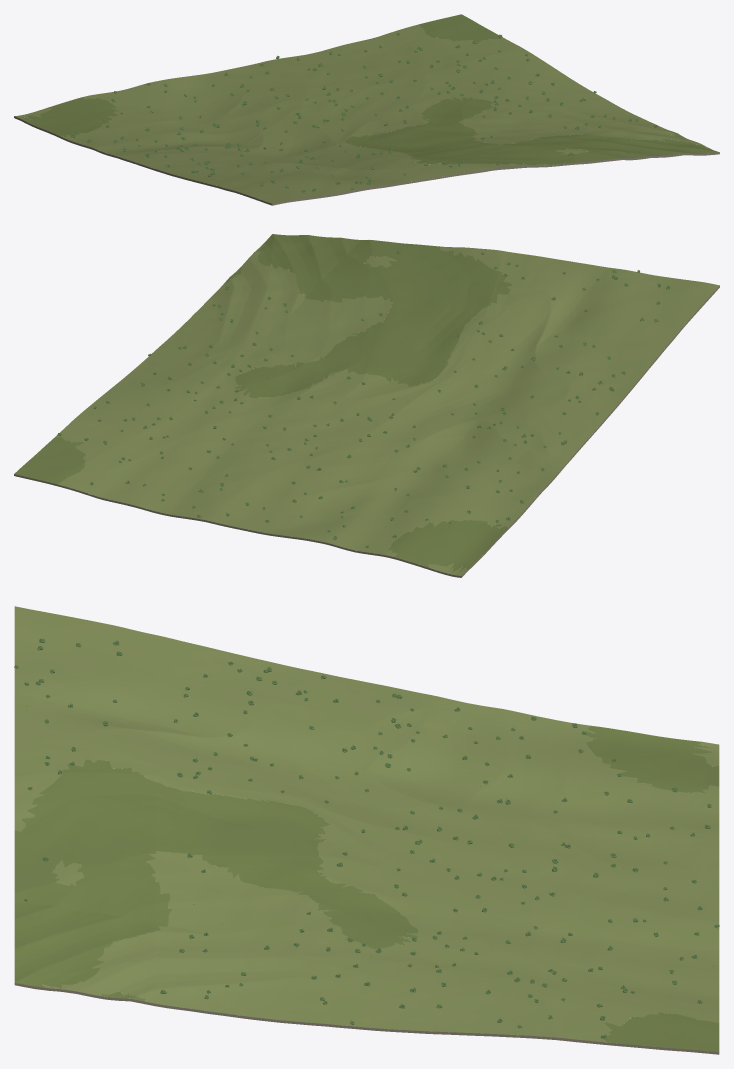
The model's file is parca_+9_-4-yakin.glb.
3 renders of one model, top to bottom at view 1: azimuth 30°, elevation 25°; view 2: azimuth 150°, elevation 25°; view 3: azimuth 270°, elevation 25°, orthographic. The views are drawn at different scales.
Visible parts, largest first — view 1: parca_+9_-4_arazi, parca_+9_-4_bitkiler; view 2: parca_+9_-4_arazi, parca_+9_-4_bitkiler; view 3: parca_+9_-4_arazi, parca_+9_-4_bitkiler.
Part boxes in pixels (bbox=[...]): parca_+9_-4_arazi: bbox=[14, 14, 719, 205]; parca_+9_-4_bitkiler: bbox=[71, 33, 657, 192]; parca_+9_-4_arazi: bbox=[14, 234, 719, 577]; parca_+9_-4_bitkiler: bbox=[57, 240, 670, 547]; parca_+9_-4_arazi: bbox=[14, 606, 719, 1054]; parca_+9_-4_bitkiler: bbox=[14, 638, 719, 1038].
Size of the model in its own units: 1001 by 242 by 1002.
